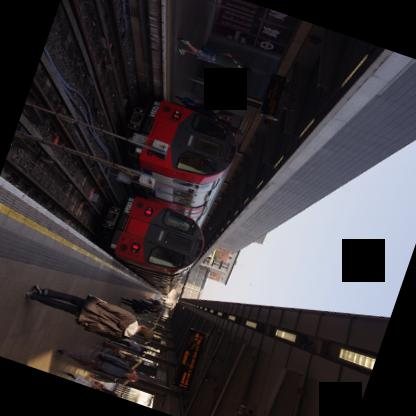handbag: (73, 375, 97, 388), (181, 97, 198, 105), (202, 46, 216, 54), (133, 308, 142, 314)
